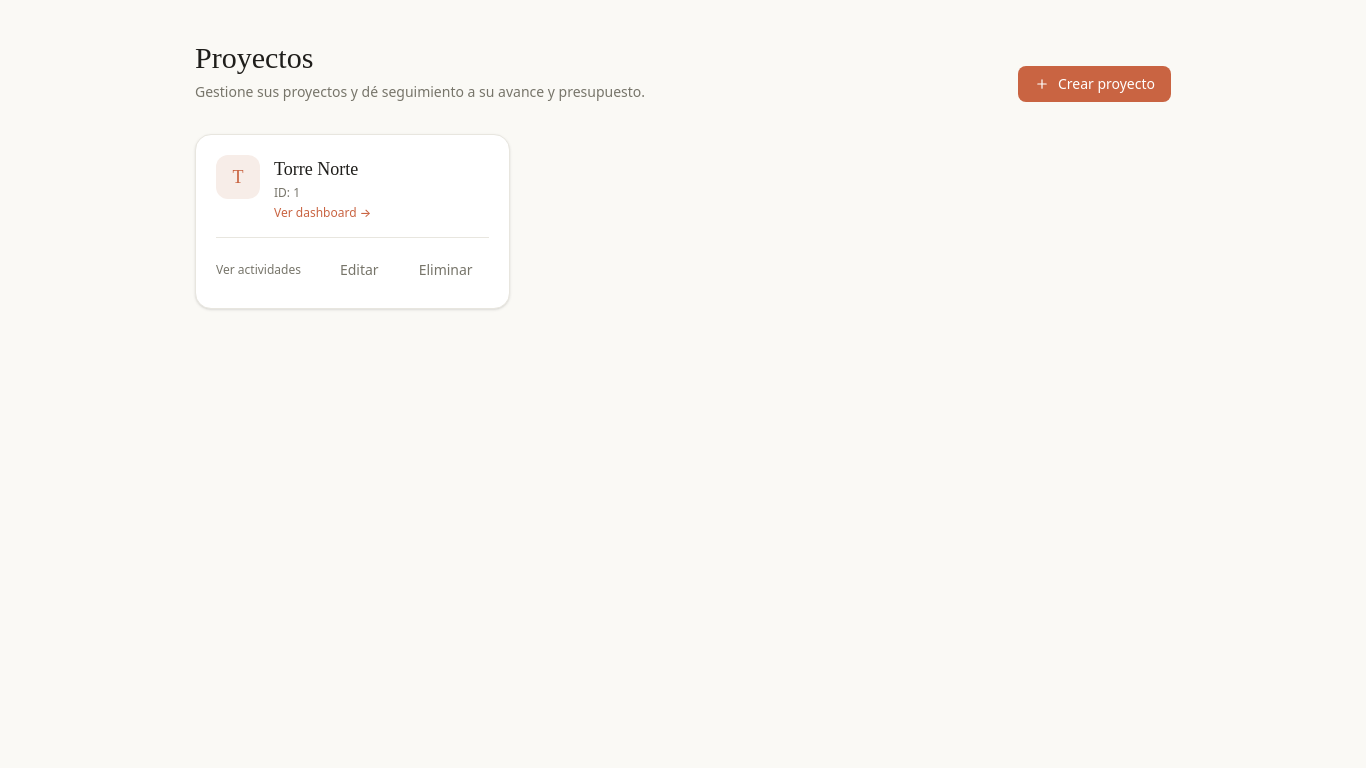
ProyectosListado › edits a project and refreshes the list
Check: the heading "Torre Norte" is shown, box x1=274 y1=155 x2=371 y2=183
Click the button "Editar" at (359, 270), box x1=324 y1=252 x2=395 y2=288
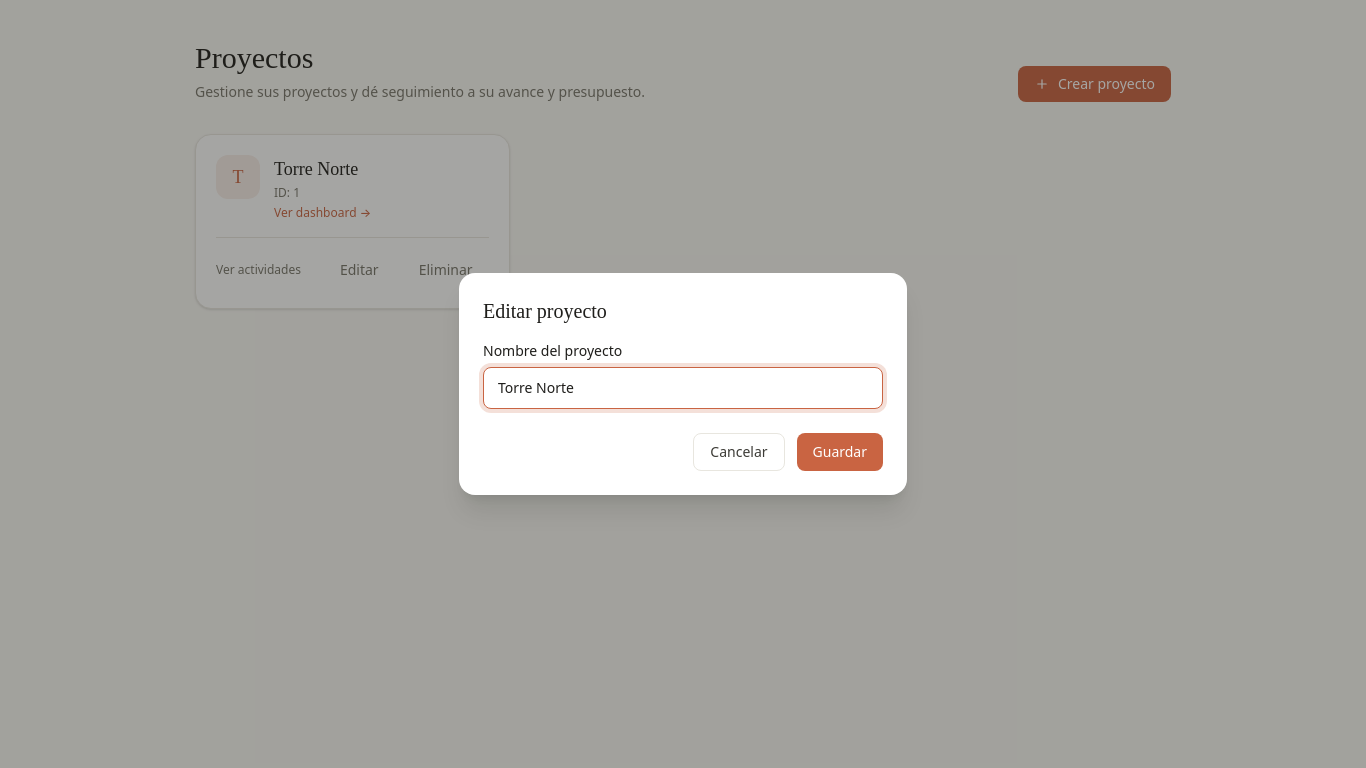
Replace the text in the field labelled "Nombre del proyecto" with "Torre Sur" at (683, 388), box x1=483 y1=367 x2=883 y2=409
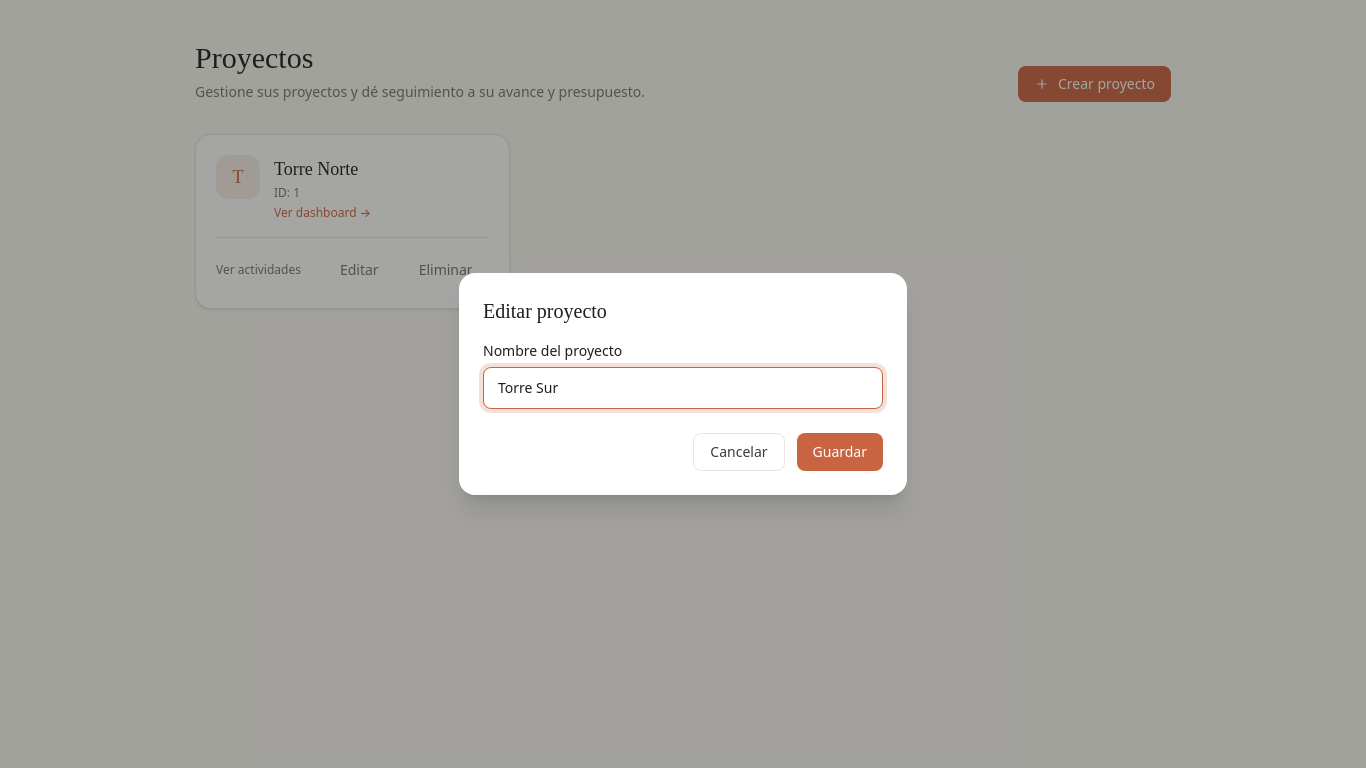
Click the button "Guardar" at (840, 452), box x1=796 y1=433 x2=883 y2=471
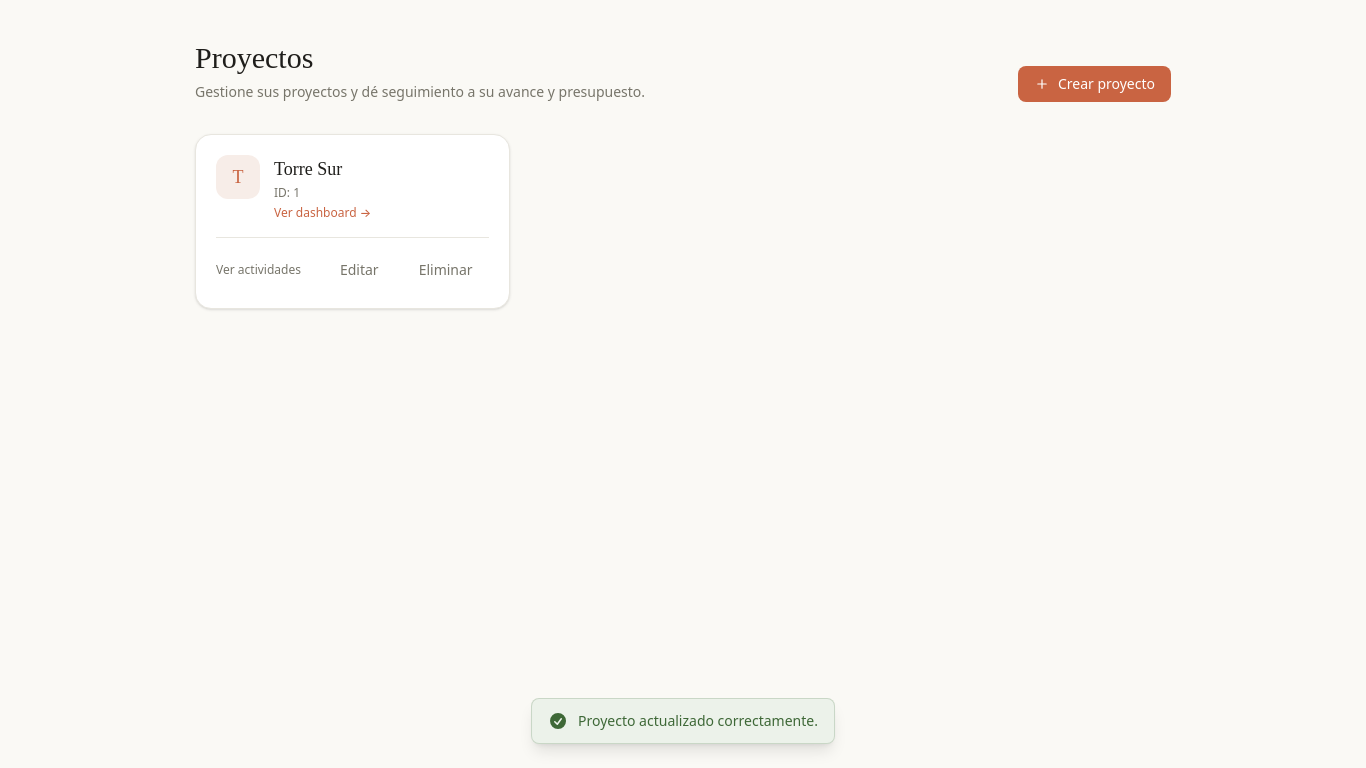
Check: the heading "Torre Sur" is shown, box x1=274 y1=159 x2=342 y2=179
